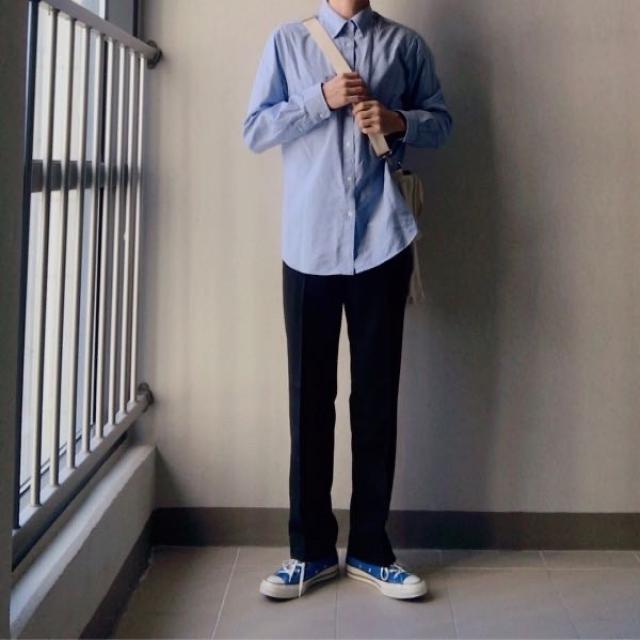shirt: (248, 5, 459, 275)
slacks: (281, 230, 413, 569)
